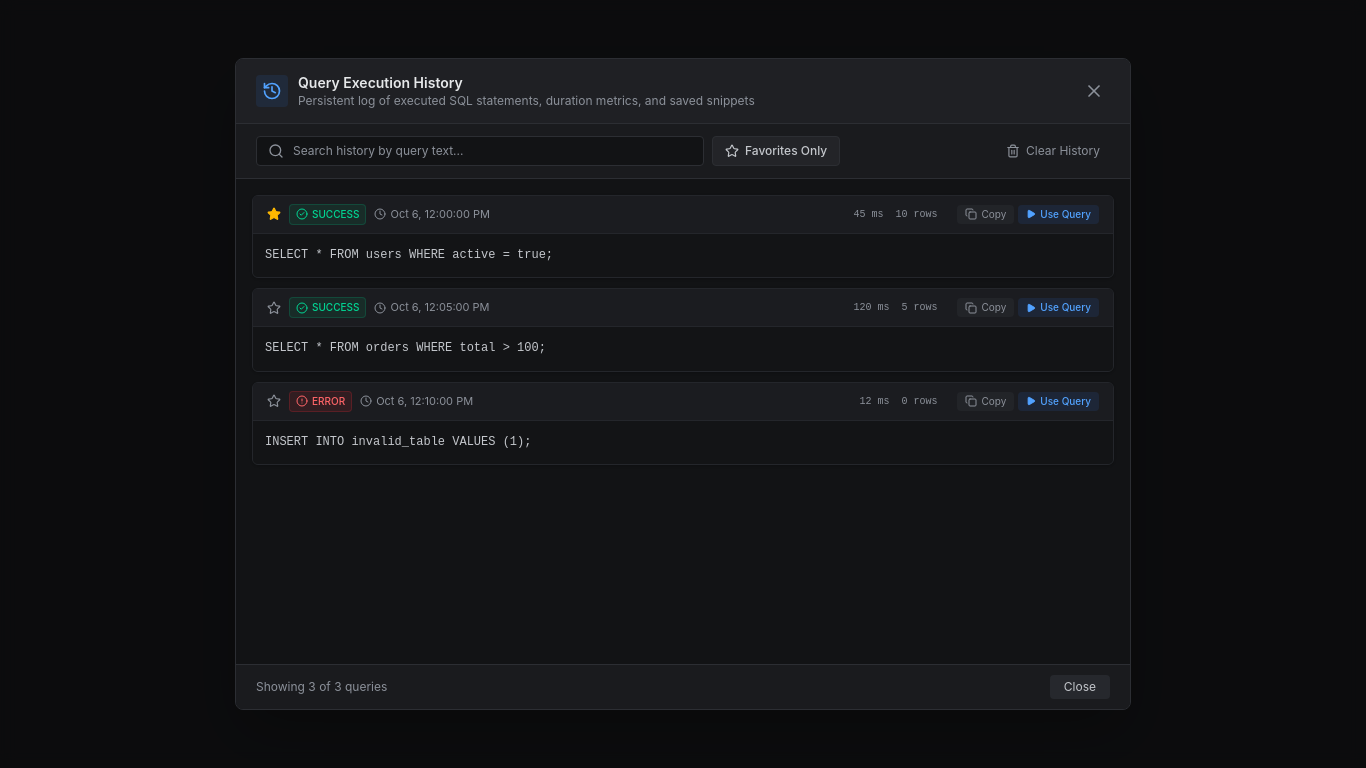
Scenario: QueryHistoryModal › filters history by search filter text
Expected: the text "SELECT * FROM users WHERE active = true;" is shown, x1=253 y1=234 x2=1113 y2=277
Type "orders" into the field with placeholder "Search history by query text..." at [480, 151], box x1=256 y1=136 x2=704 y2=166
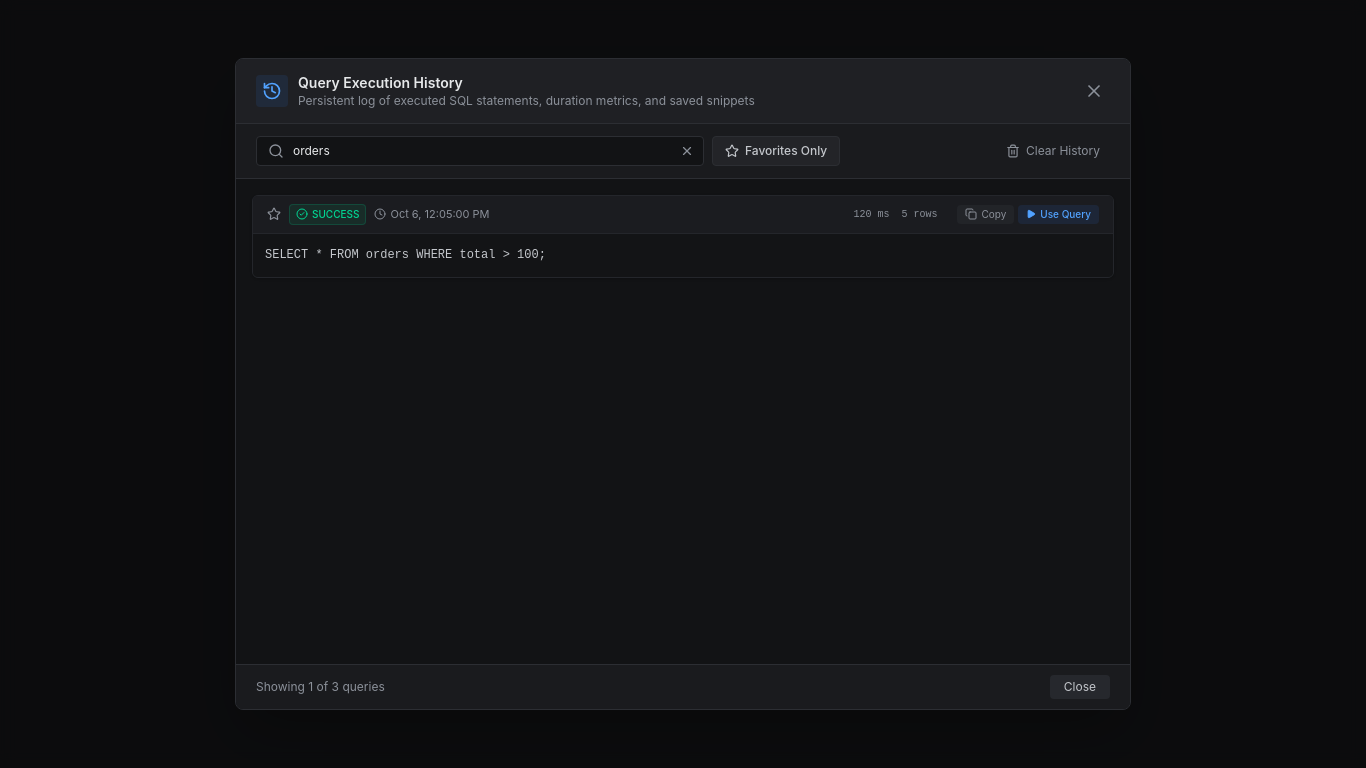
Expected: the text "SELECT * FROM orders WHERE total > 100;" is shown, x1=253 y1=234 x2=1113 y2=277
Expected: the text "SELECT * FROM users" is gone
